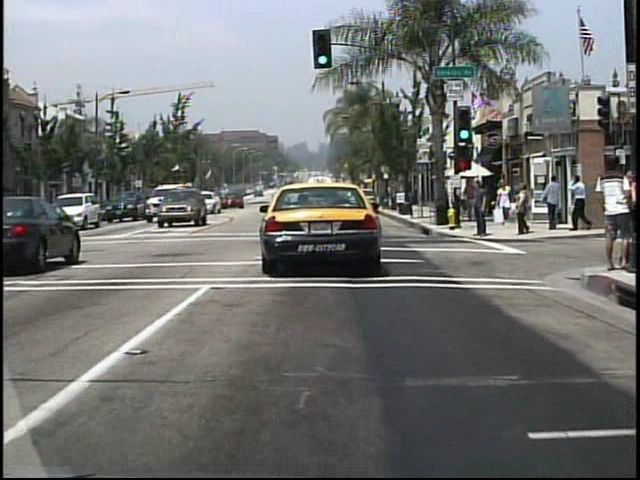person: (598, 151, 636, 276), (566, 171, 591, 231), (544, 173, 563, 232), (471, 181, 490, 239), (514, 183, 533, 234), (462, 178, 482, 226), (496, 179, 514, 227)
